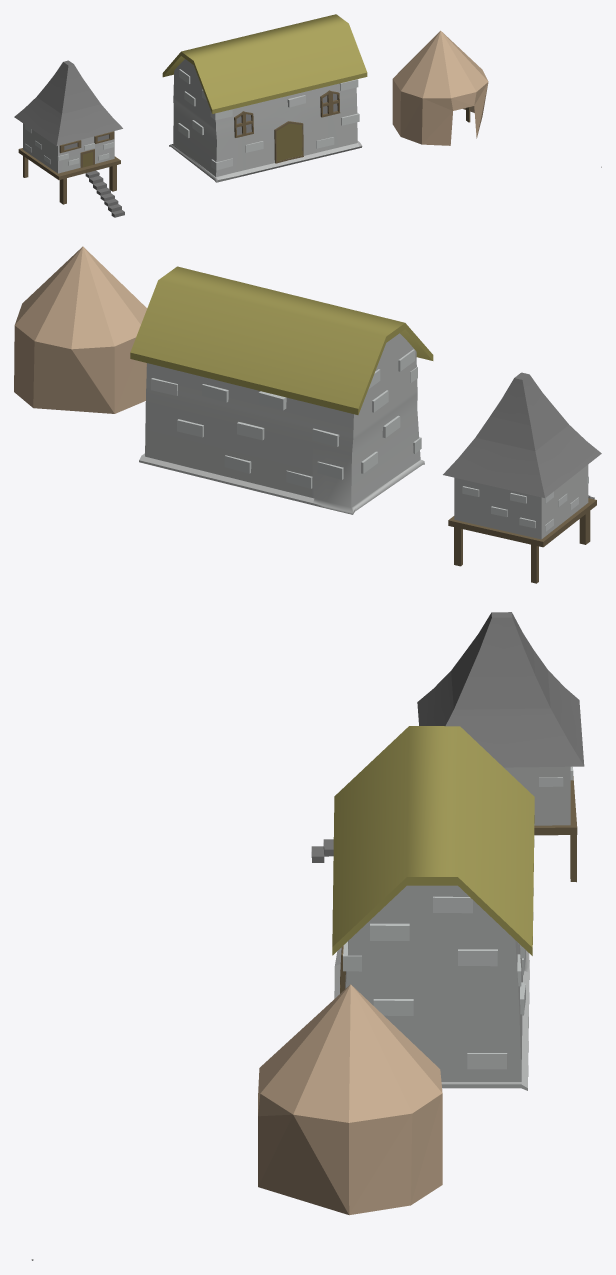
The model's file is Low_Poly_Buildings.fbx.
3 views of the same model, one above another, from view 1: azimuth 30°, elevation 25°; view 2: azimuth 150°, elevation 25°; view 3: azimuth 270°, elevation 25° (orthographic). The views are drawn at different scales.
Visible parts, largest first — view 1: House_001, House_002, Camp_Tent; view 2: House_001, House_002, Camp_Tent; view 3: House_001, Camp_Tent, House_002.
Part boxes in pixels (bbox=[...]): House_001: bbox=[162, 14, 601, 182]; House_002: bbox=[14, 60, 124, 217]; Camp_Tent: bbox=[392, 30, 488, 145]; House_001: bbox=[130, 266, 433, 514]; House_002: bbox=[443, 372, 601, 583]; Camp_Tent: bbox=[14, 246, 146, 413]; House_001: bbox=[31, 726, 534, 1260]; Camp_Tent: bbox=[258, 984, 442, 1215]; House_002: bbox=[311, 612, 584, 882].
Size of the model in its own units: 1020 by 260 by 541.
9 materials, 3 textured.
